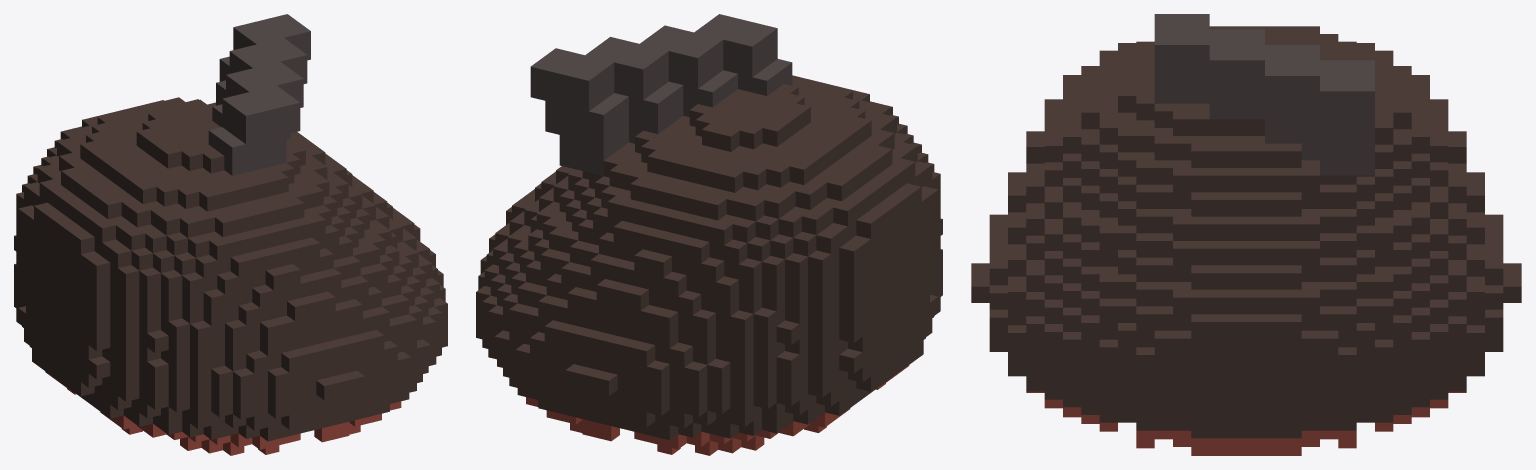
File: leather_masterwork_shoulder_L.glb
3 renders of one model, left to right at view 1: azimuth 30°, elevation 25°; view 2: azimuth 150°, elevation 25°; view 3: azimuth 270°, elevation 25°, orthographic. The views are drawn at different scales.
Parts seen in each view (by area): view 1: leather_masterwork_shoulder_L; view 2: leather_masterwork_shoulder_L; view 3: leather_masterwork_shoulder_L.
Part boxes in pixels (bbox=[...]): leather_masterwork_shoulder_L: bbox=[14, 14, 447, 455]; leather_masterwork_shoulder_L: bbox=[476, 14, 942, 455]; leather_masterwork_shoulder_L: bbox=[971, 14, 1521, 455].
Size of the model in its own units: 0.3 by 0.252 by 0.36.
